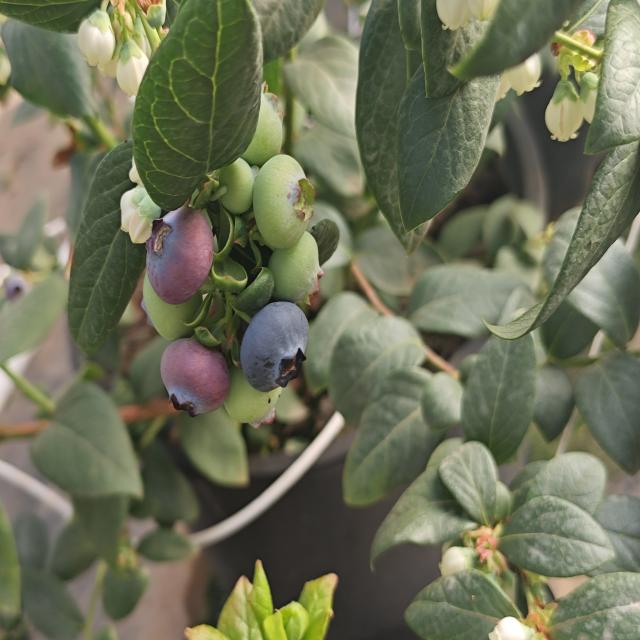ripe: (238, 298, 320, 398)
